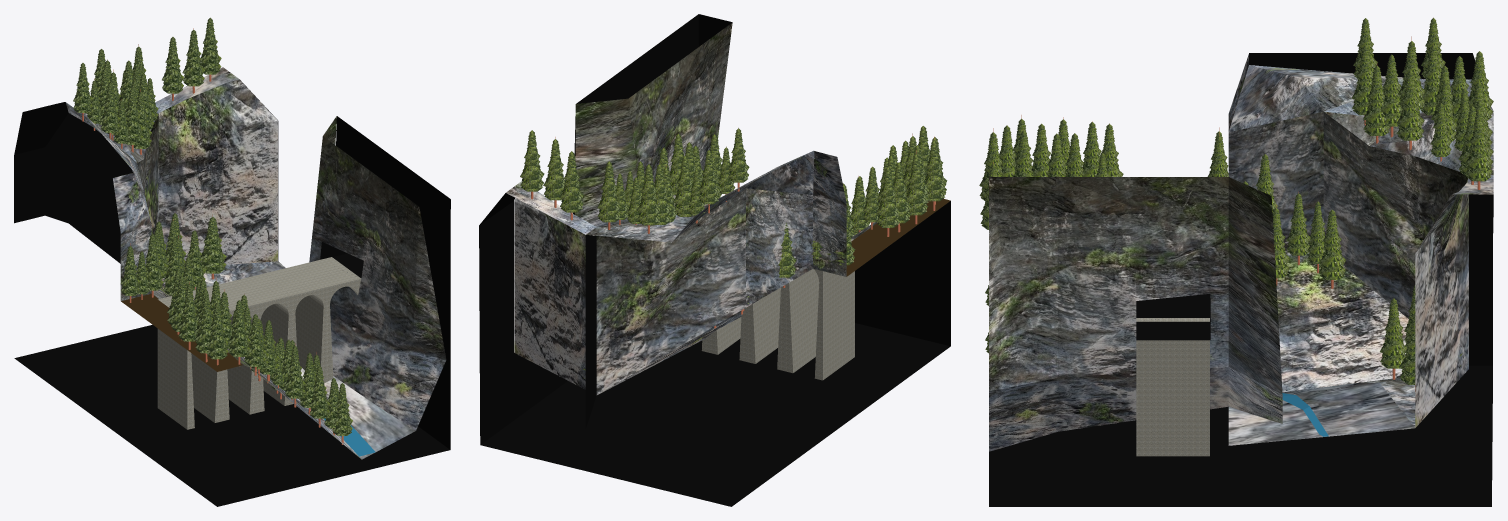
The model's file is swiss.gltf.
The picture shows the model from 3 angles, left to right: view 1: azimuth 30°, elevation 25°; view 2: azimuth 150°, elevation 25°; view 3: azimuth 270°, elevation 25°; orthographic projection. The views are drawn at different scales.
Parts seen in each view (by area): view 1: Plane.006, Plane.004, Plane.007, Plane.001, Plane.002, Plane.009, Plane.003, Plane, Plane.005, Cone.034, Cone.060, Cone.012 (+20 smaller); view 2: Plane.006, Plane.007, Plane.004, Plane.001, Plane, Plane.003, Cone.061, Cone.052, Cone.059, Cone.039, Cone.078, Cone.074 (+12 smaller); view 3: Plane.004, Plane.006, Plane.007, Plane.008, Plane.005, Plane.009, Cone.059, Cone.043, Cone.003, Cone.032, Cone.046, Cone.044 (+16 smaller).
Part boxes in pixels (x1,y1,x2,y2): Plane.006: (14, 86, 450, 506); Plane.004: (309, 116, 446, 430); Plane.007: (65, 67, 277, 266); Plane.001: (157, 291, 222, 429); Plane.002: (263, 265, 326, 404); Plane.009: (195, 261, 415, 459); Plane.003: (228, 274, 291, 412); Plane: (193, 282, 257, 421); Plane.005: (297, 257, 361, 381); Cone.034: (200, 214, 226, 279); Cone.060: (182, 28, 204, 93); Cone.012: (228, 300, 250, 366); Plane.006: (479, 14, 950, 506); Plane.007: (506, 150, 814, 394); Plane.004: (575, 22, 732, 226); Plane.001: (785, 239, 854, 380); Plane: (747, 286, 784, 371); Plane.003: (709, 307, 747, 361); Cone.061: (559, 151, 583, 220); Cone.052: (637, 164, 660, 233); Cone.059: (520, 130, 544, 199); Cone.039: (597, 161, 621, 229); Cone.078: (876, 166, 899, 236); Cone.074: (906, 150, 928, 224); Plane.004: (989, 177, 1282, 451); Plane.006: (989, 53, 1493, 506); Plane.007: (1228, 65, 1493, 427); Plane.008: (1276, 235, 1408, 392); Plane.005: (1136, 318, 1209, 456); Plane.009: (1228, 377, 1450, 445); Cone.059: (1465, 111, 1492, 189); Cone.043: (1396, 70, 1424, 150); Cone.003: (1318, 209, 1346, 288); Cone.032: (1380, 298, 1406, 379); Cone.046: (1363, 63, 1389, 143); Cone.044: (1381, 56, 1402, 137).
Bounding box in the file's own units: 72.63 × 87.69 × 108.
Materials: 7 (3 with a texture image).
